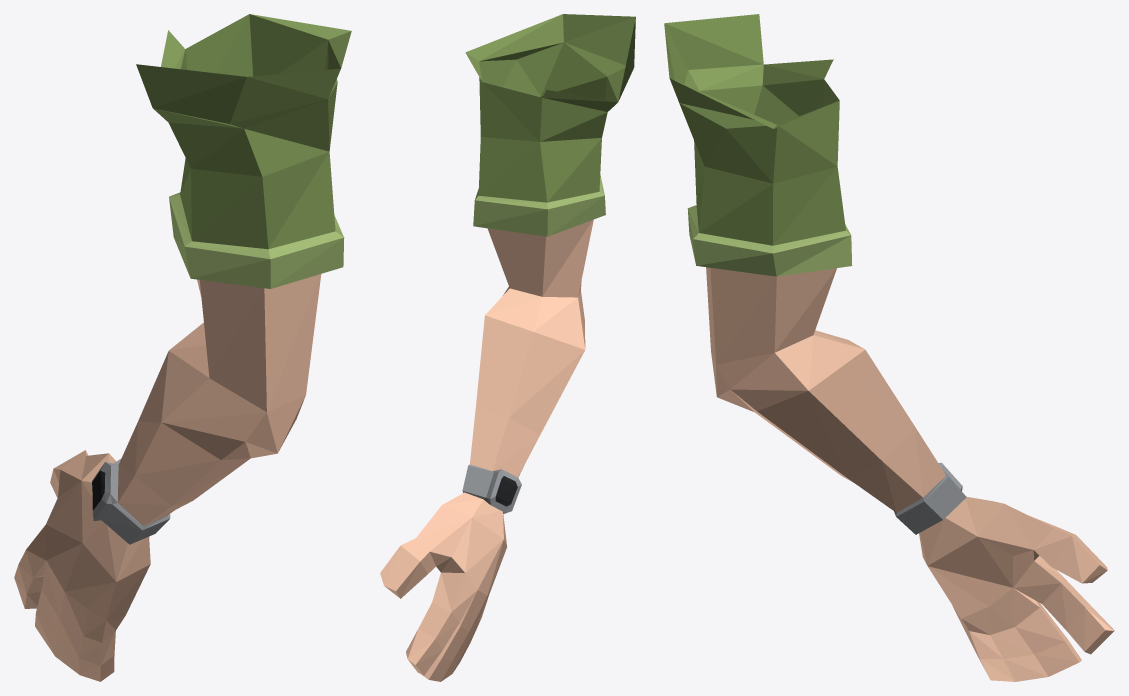
File: Rigged_ArmL_40.obj
3 views of the same model, side by side, from view 1: azimuth 30°, elevation 25°; view 2: azimuth 150°, elevation 25°; view 3: azimuth 270°, elevation 25° (orthographic). The views are drawn at different scales.
Visible parts, largest first — view 1: Rigged_ArmL_40; view 2: Rigged_ArmL_40; view 3: Rigged_ArmL_40.
Part boxes in pixels (x1,y1,x2,y2): Rigged_ArmL_40: (14,14,351,681); Rigged_ArmL_40: (380,14,635,681); Rigged_ArmL_40: (664,14,1114,681).
Bounding box in the file's own units: 0.2291 × 0.744 × 0.4745.
1 material, 1 textured.
